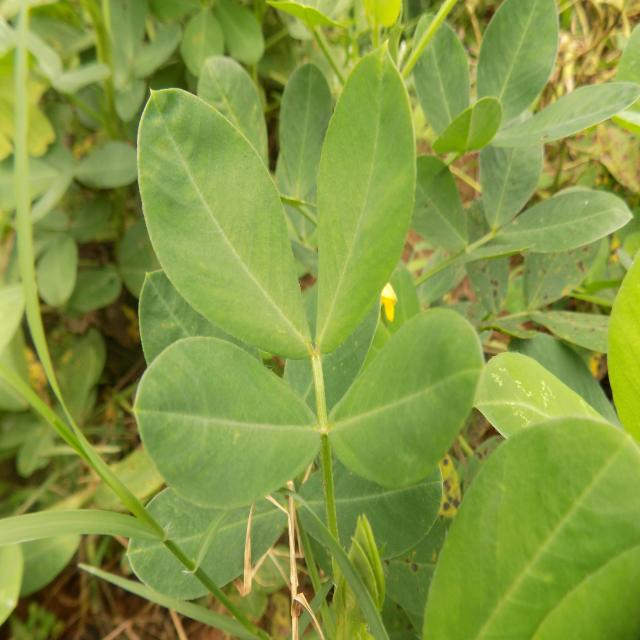Ground nut_healthy: (134, 80, 314, 360), (422, 421, 640, 640), (130, 327, 317, 506), (311, 35, 410, 368), (328, 317, 478, 478), (478, 2, 560, 128), (413, 12, 486, 145), (502, 186, 627, 254)
